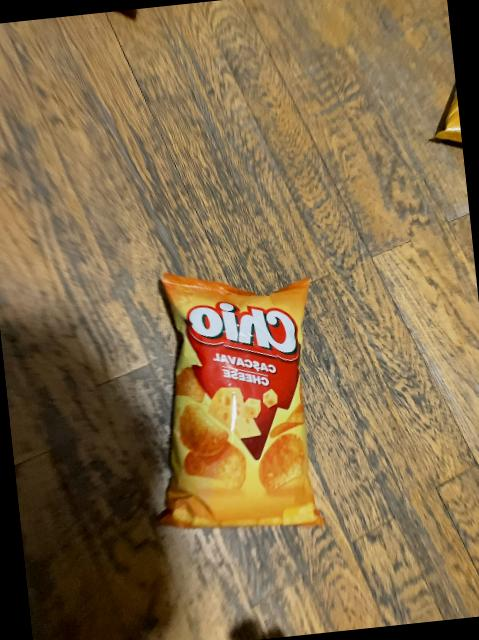Chio Cascaval 125g: (134, 264, 334, 540)
